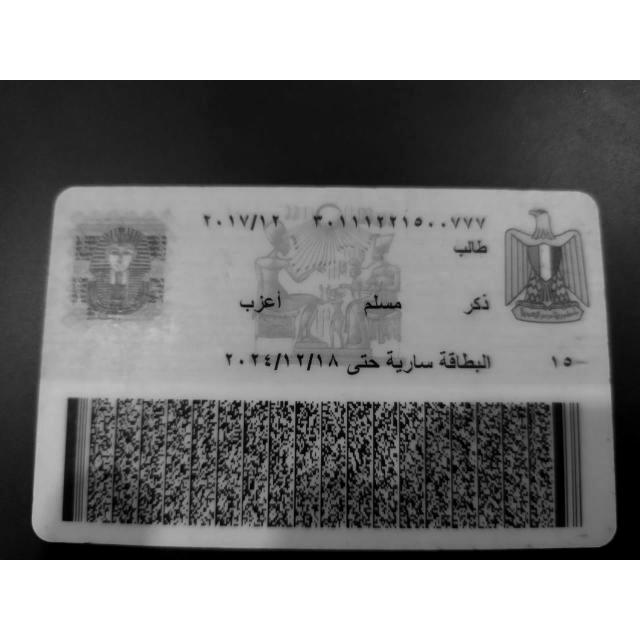id_card: (32, 187, 615, 549)
